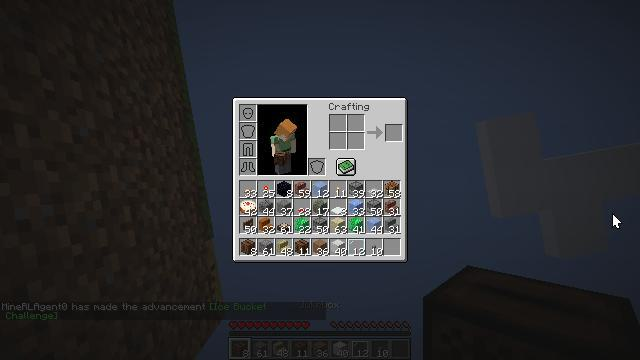cursor: (612, 213, 622, 229)
